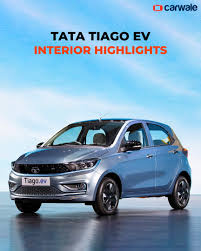Tiago: (7, 115, 193, 223)
